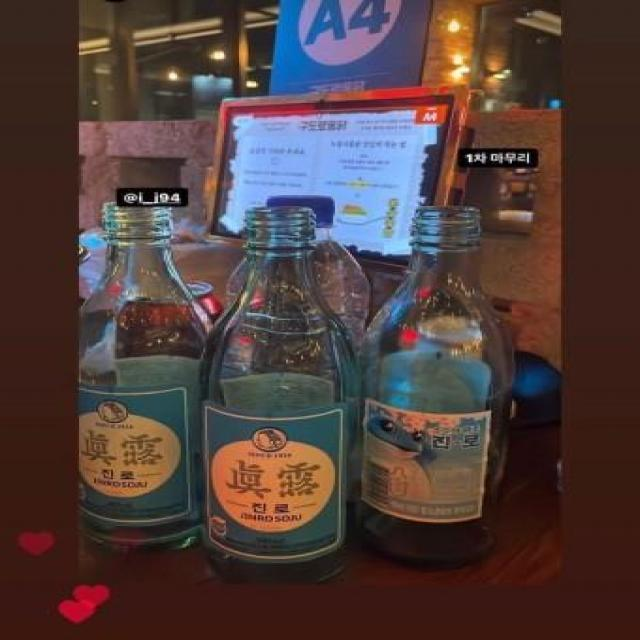soju-bottle: (194, 203, 364, 591), (358, 205, 520, 574), (79, 198, 222, 556)
